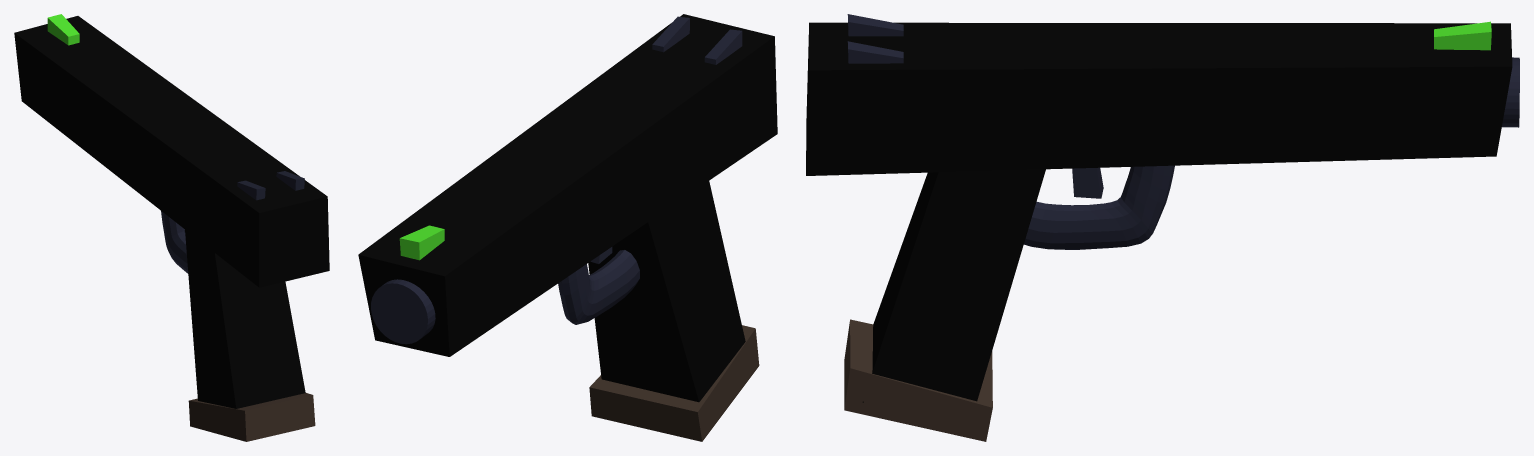
File: pistol.glb
The picture shows the model from 3 angles, left to right: view 1: azimuth 30°, elevation 25°; view 2: azimuth 150°, elevation 25°; view 3: azimuth 270°, elevation 25°; orthographic projection. The views are drawn at different scales.
Visible parts, largest first — view 1: Cube.001, Cube, Cube.005, Torus, Cube.002, Cube.003, Cube.004; view 2: Cube.001, Cube, Cube.005, Torus, Cylinder, Cube.002, Cube.003, Cube.004; view 3: Cube.001, Cube, Cube.005, Torus, Cube.002, Cube.003, Cube.004, Cube.007, Cylinder.
Boxes of the visible parts, box(x1,y1,x2,y2) form: Cube.001: box(14, 16, 329, 287); Cube: box(185, 230, 305, 408); Cube.005: box(188, 393, 315, 441); Torus: box(161, 211, 188, 273); Cube.002: box(47, 14, 79, 45); Cube.003: box(237, 180, 265, 200); Cube.004: box(276, 171, 304, 190); Cube.001: box(358, 14, 777, 356); Cube: box(588, 181, 745, 402); Cube.005: box(589, 325, 759, 441); Torus: box(558, 250, 639, 324); Cylinder: box(371, 279, 435, 344); Cube.002: box(399, 225, 444, 260); Cube.003: box(704, 29, 742, 64); Cube.004: box(652, 16, 689, 52); Cube.001: box(806, 22, 1512, 175); Cube: box(862, 169, 1045, 402); Cube.005: box(844, 319, 992, 441); Torus: box(1024, 165, 1174, 249); Cube.002: box(1434, 21, 1491, 50); Cube.003: box(847, 14, 903, 36); Cube.004: box(847, 41, 903, 63); Cube.007: box(1072, 167, 1103, 198); Cylinder: box(1502, 57, 1519, 127).
Bounding box in the file's own units: 2.4 × 7.53 × 12.59.
